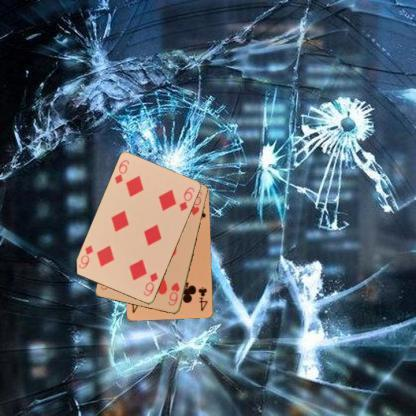4c: (196, 284, 210, 313)
6d: (140, 270, 160, 298), (112, 157, 131, 186)
6h: (166, 280, 181, 307)
